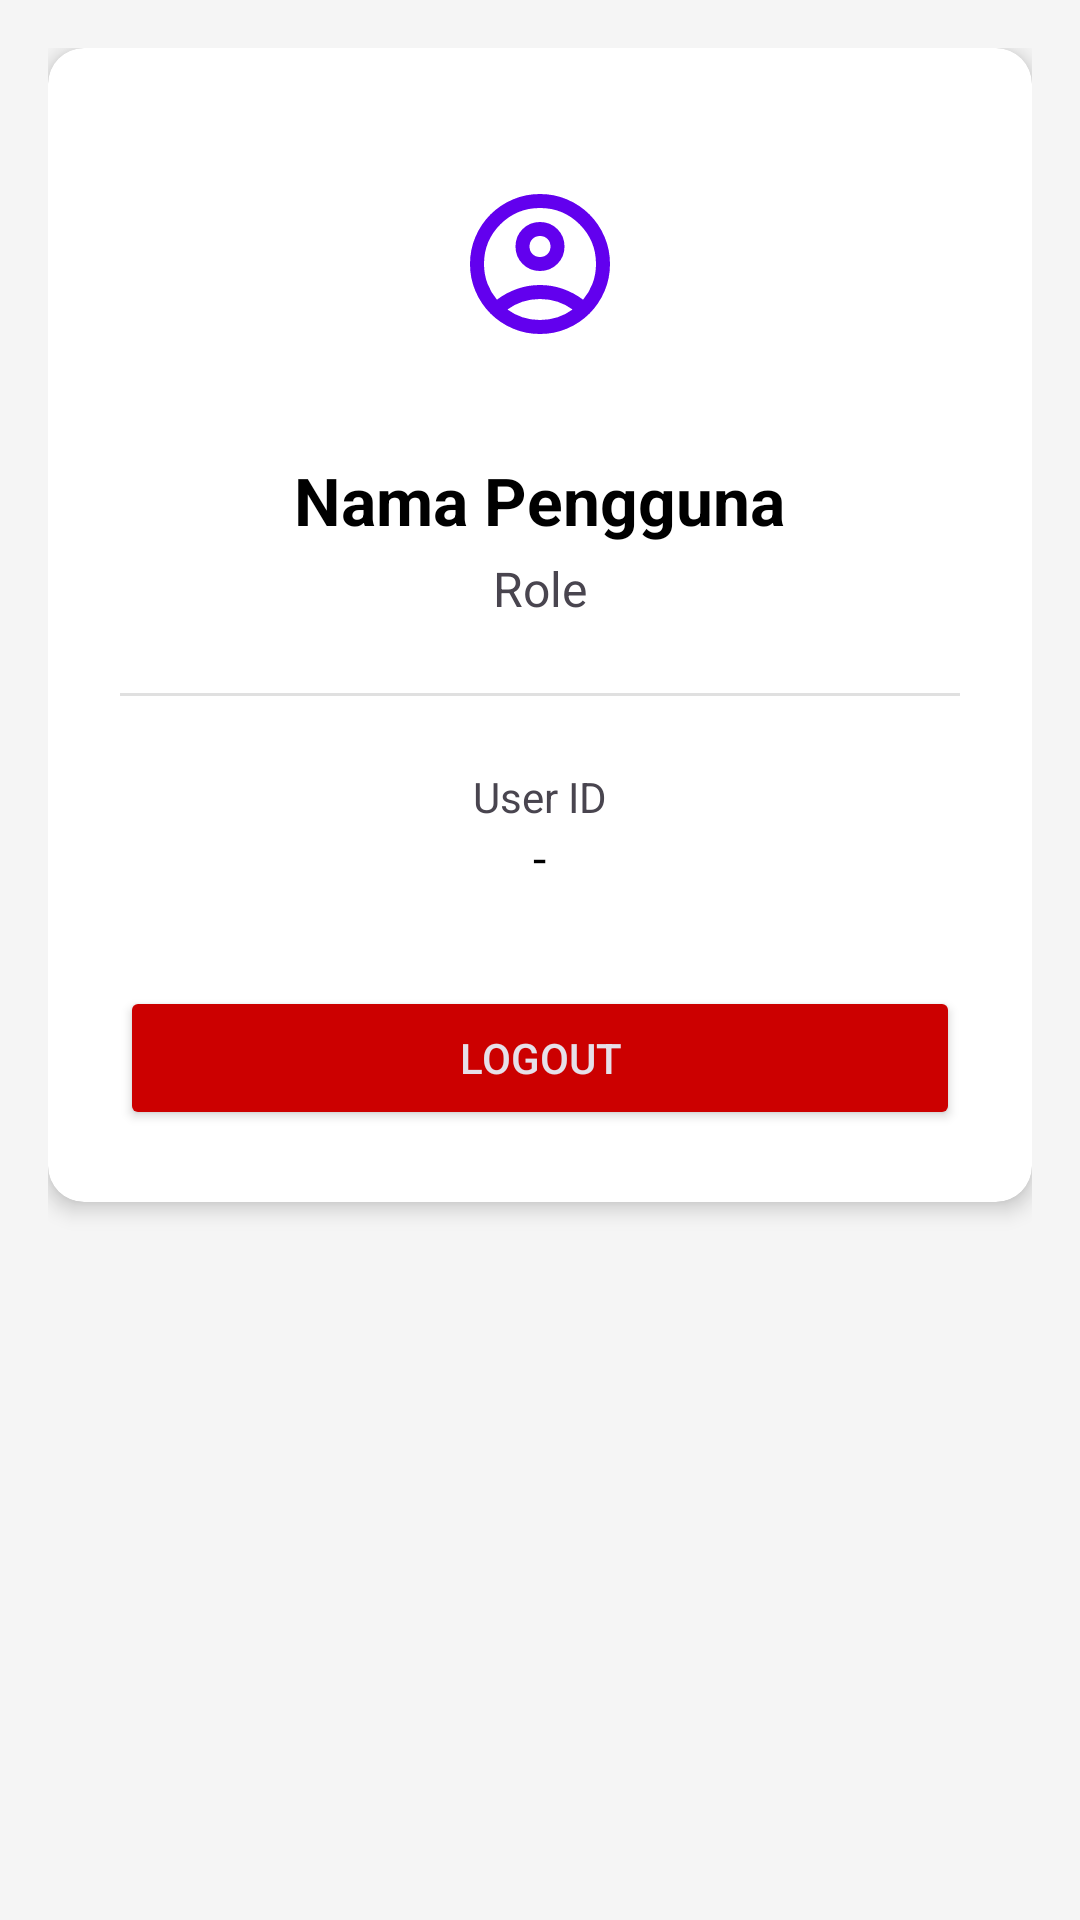

Icon click points for this 1080 × 1920 phone screenshot, format [x,y]:
profile: [540,264]
